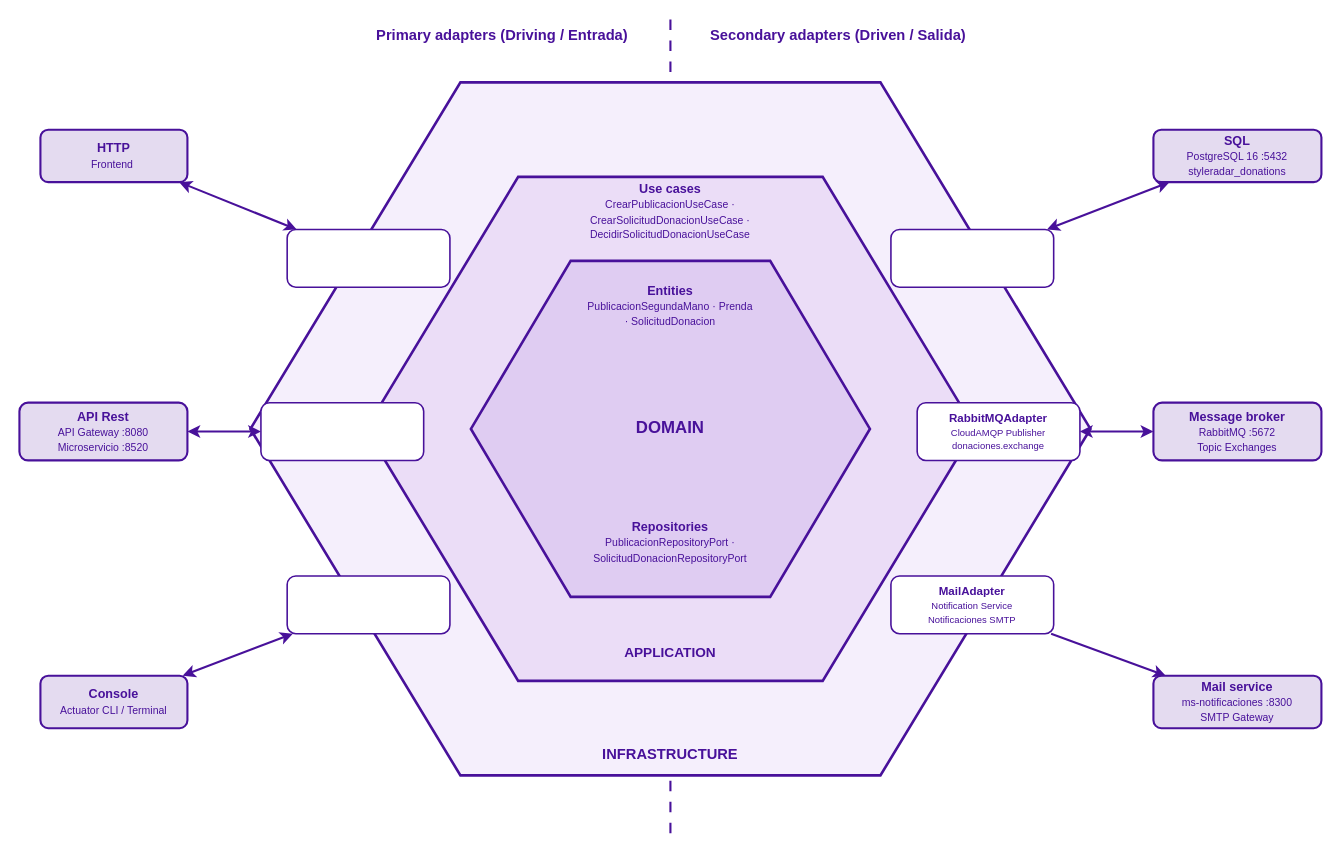
Some shapes in this 1340 by 863 pixel diagram are drawn without their labels. The centre of each missing label's shape, as x and y in pixels:
API endpoints Swagger UI · OpenAPI 3 Puerto 8520: (342,431)
CLI / Listeners Spring Actuator · Health RabbitMQ Listener: (368,604)
Controllers PublicacionController SolicitudDonacionController: (368,257)
EntityManager PostgreSQL 16 JPA Spring Data Adapters: (972,257)
